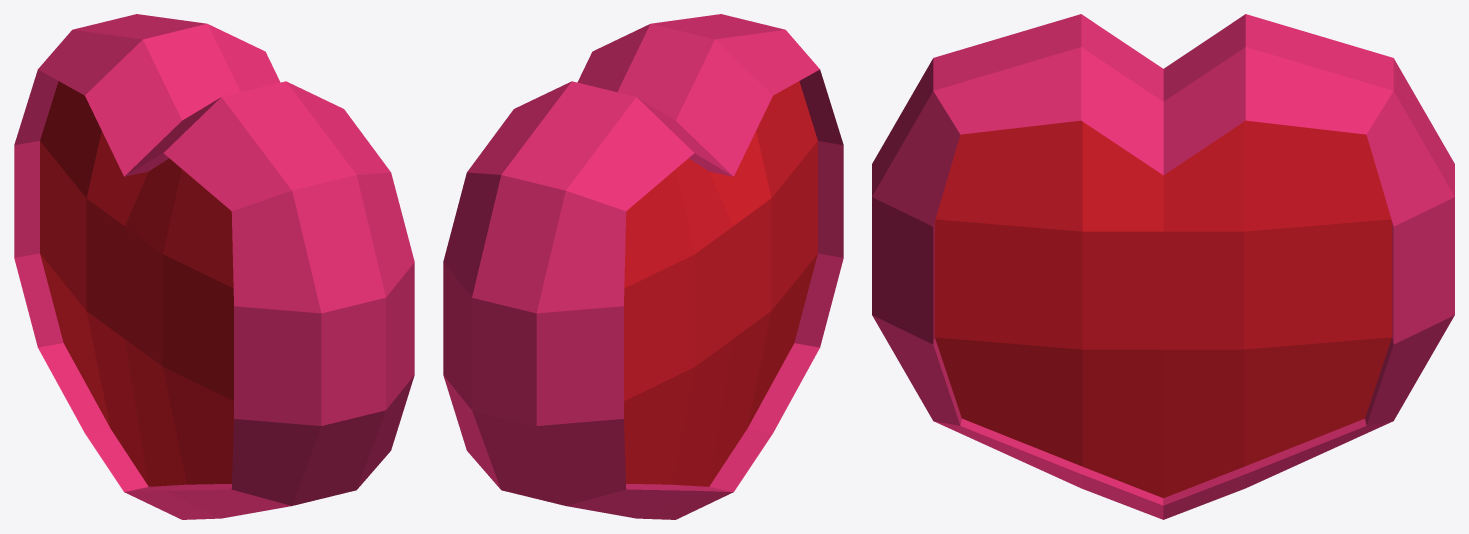
Rendered from Item Corazon.fbx.
3 views of the same model, side by side, from view 1: azimuth 30°, elevation 25°; view 2: azimuth 150°, elevation 25°; view 3: azimuth 270°, elevation 25° (orthographic). The views are drawn at different scales.
Parts seen in each view (by area): view 1: Corazon; view 2: Corazon; view 3: Corazon.
Boxes of the visible parts, x1=… form: Corazon: x1=14, y1=14, x2=414, y2=519; Corazon: x1=443, y1=14, x2=843, y2=519; Corazon: x1=872, y1=14, x2=1454, y2=519.
Bounding box in the file's own units: 91.88 × 209 × 234.
